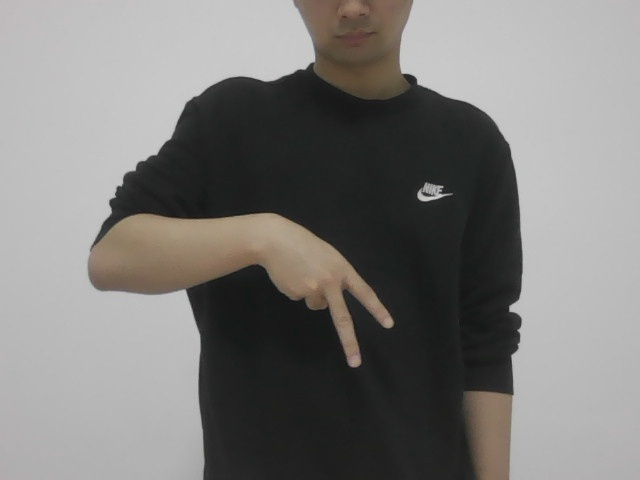walk: (246, 197, 399, 356)
